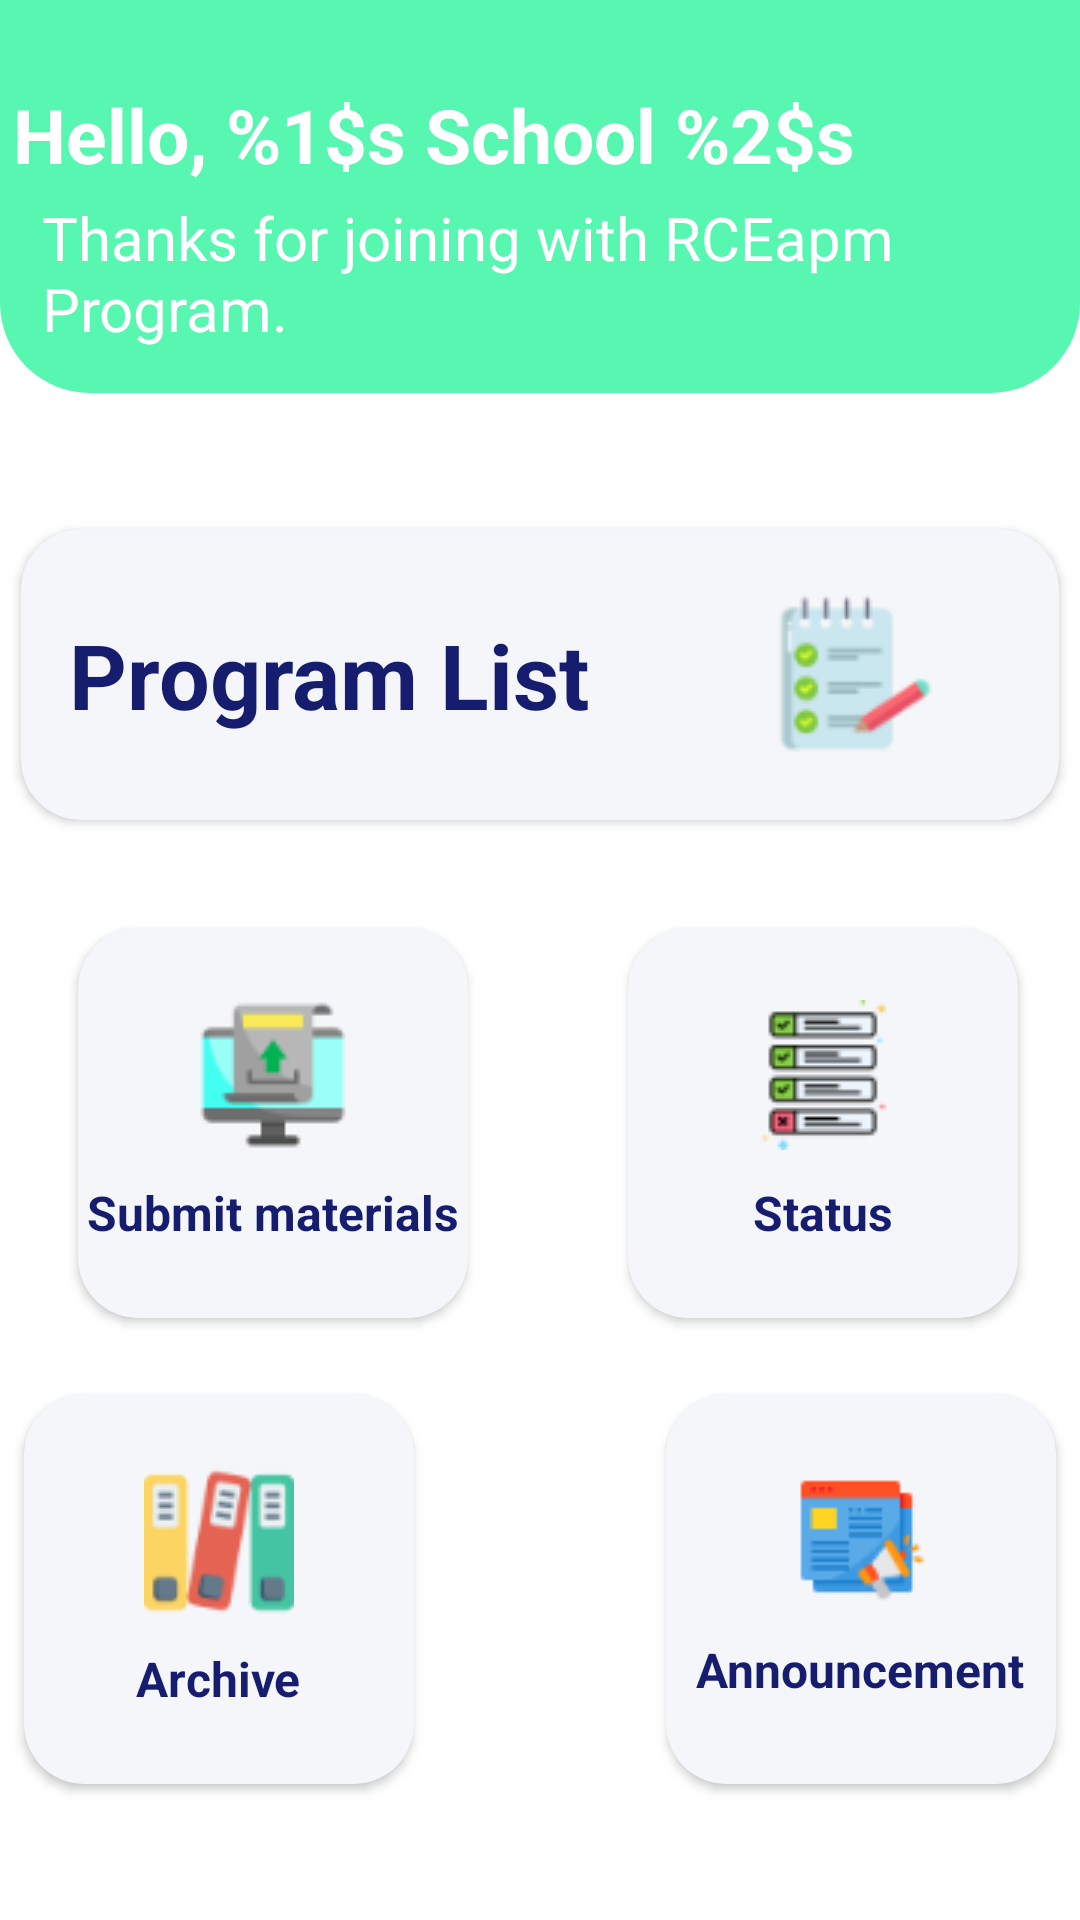

Screen size 1080 x 1920. Icon name, then its center in pixels as [x,y]:
list icon: [856,673]
